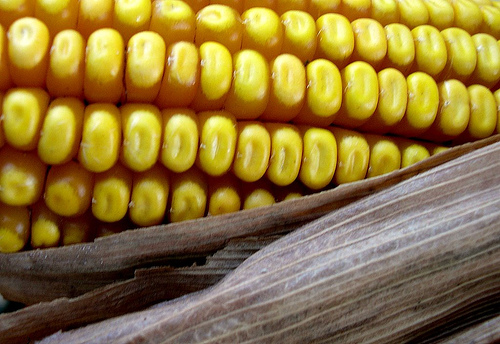corn: (0, 0, 499, 254)
